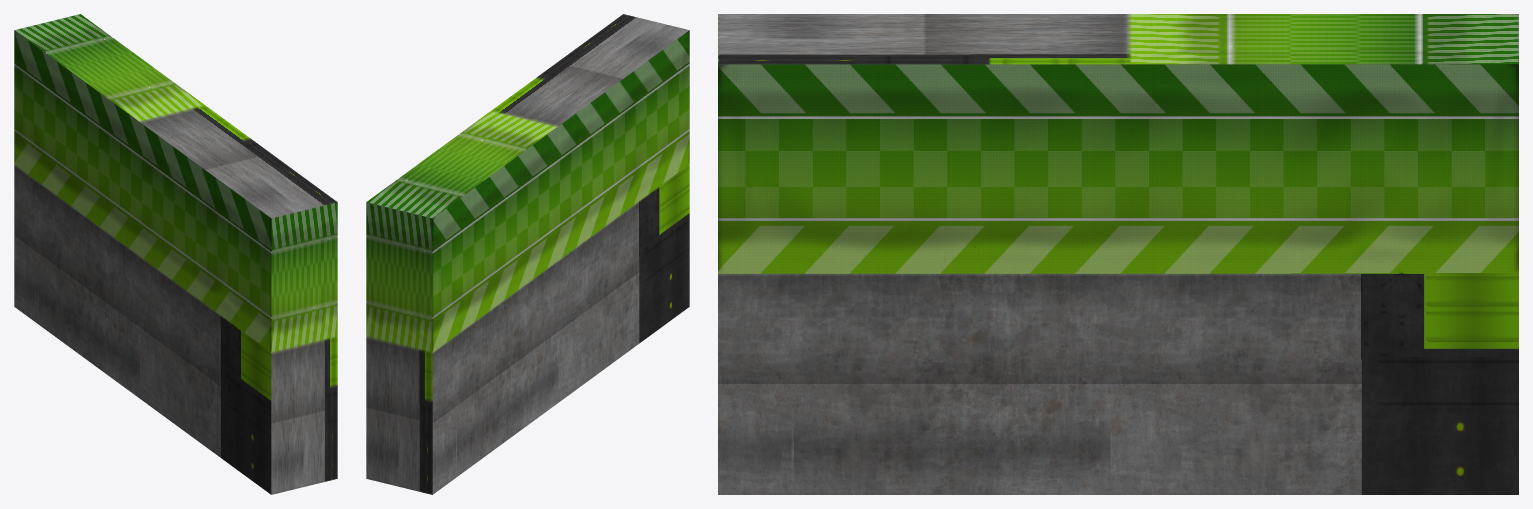
Rendered from gate_start.DAE.
The picture shows the model from 3 angles, left to right: view 1: azimuth 30°, elevation 25°; view 2: azimuth 150°, elevation 25°; view 3: azimuth 270°, elevation 25°; orthographic projection. The views are drawn at different scales.
Visible parts, largest first — view 1: bounds; view 2: bounds; view 3: bounds.
Part boxes in pixels (x1=…): bounds: x1=14, y1=14, x2=337, y2=494; bounds: x1=366, y1=14, x2=689, y2=494; bounds: x1=718, y1=14, x2=1518, y2=494.
Bounding box in the file's own units: 4.82 × 32.39 × 19.22.
